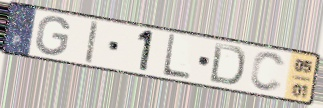1: (134, 29, 156, 75)
C: (247, 50, 287, 94)
D: (207, 41, 247, 87)
G: (33, 15, 72, 58)
I: (83, 19, 101, 66)
L: (160, 32, 191, 82)
